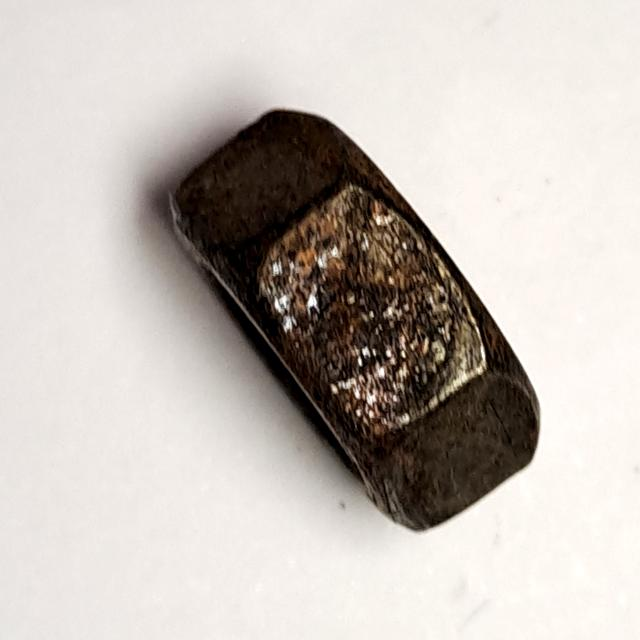Side_Rust: (152, 94, 557, 544)
